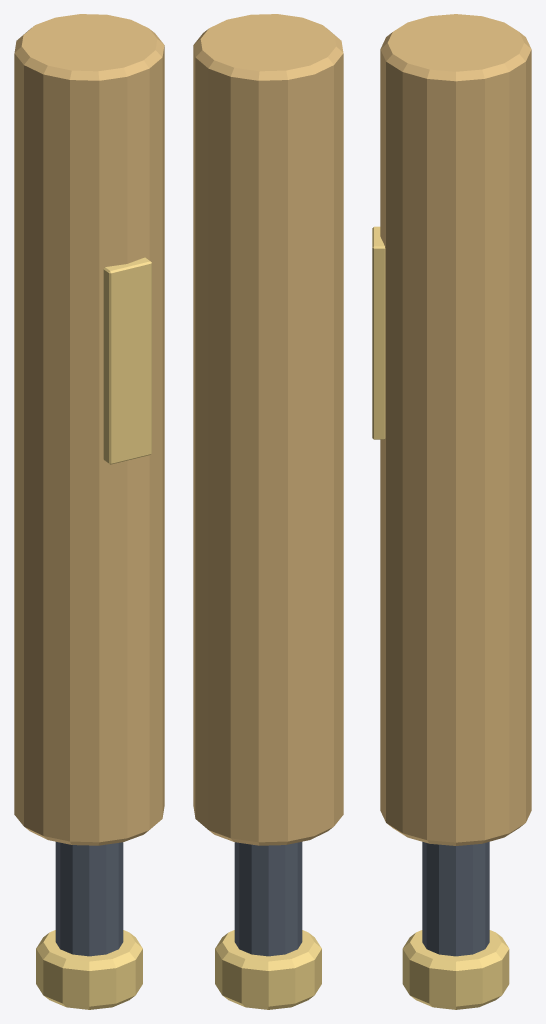
The model's file is equipment-slugger-bat.glb.
The picture shows the model from 3 angles, left to right: view 1: azimuth 30°, elevation 25°; view 2: azimuth 150°, elevation 25°; view 3: azimuth 270°, elevation 25°; orthographic projection.
Visible parts, largest first — view 1: Bat_Barrel, Bat_PixelBrand, Bat_Handle, Bat_Knob; view 2: Bat_Barrel, Bat_Handle, Bat_Knob; view 3: Bat_Barrel, Bat_Handle, Bat_Knob, Bat_PixelBrand.
Part boxes in pixels (x1,y1,x2,y2): Bat_Barrel: [14, 14, 164, 845]; Bat_PixelBrand: [103, 257, 151, 464]; Bat_Handle: [55, 842, 123, 956]; Bat_Knob: [36, 930, 142, 1009]; Bat_Barrel: [193, 14, 343, 845]; Bat_Handle: [234, 842, 302, 956]; Bat_Knob: [215, 930, 321, 1009]; Bat_Barrel: [380, 14, 531, 845]; Bat_Handle: [422, 842, 489, 956]; Bat_Knob: [402, 930, 509, 1009]; Bat_PixelBrand: [372, 226, 385, 439].
Bounding box in the file's own units: 0.17 × 1.17 × 0.179.
